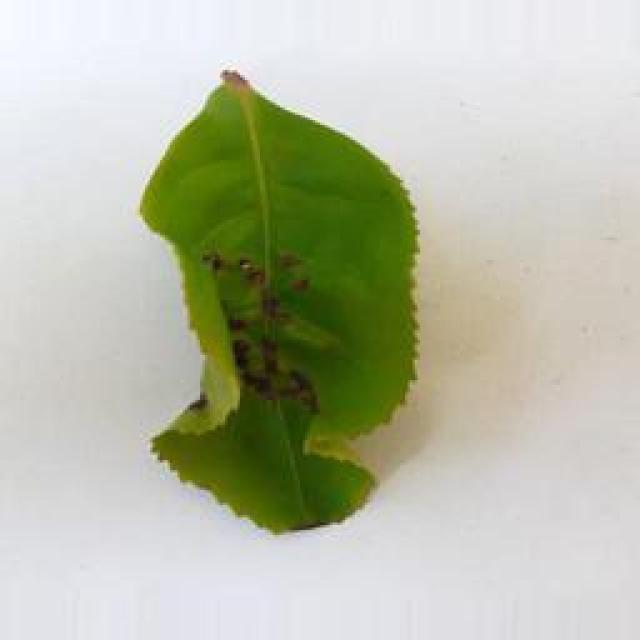Helopeltis: (135, 58, 436, 536)
